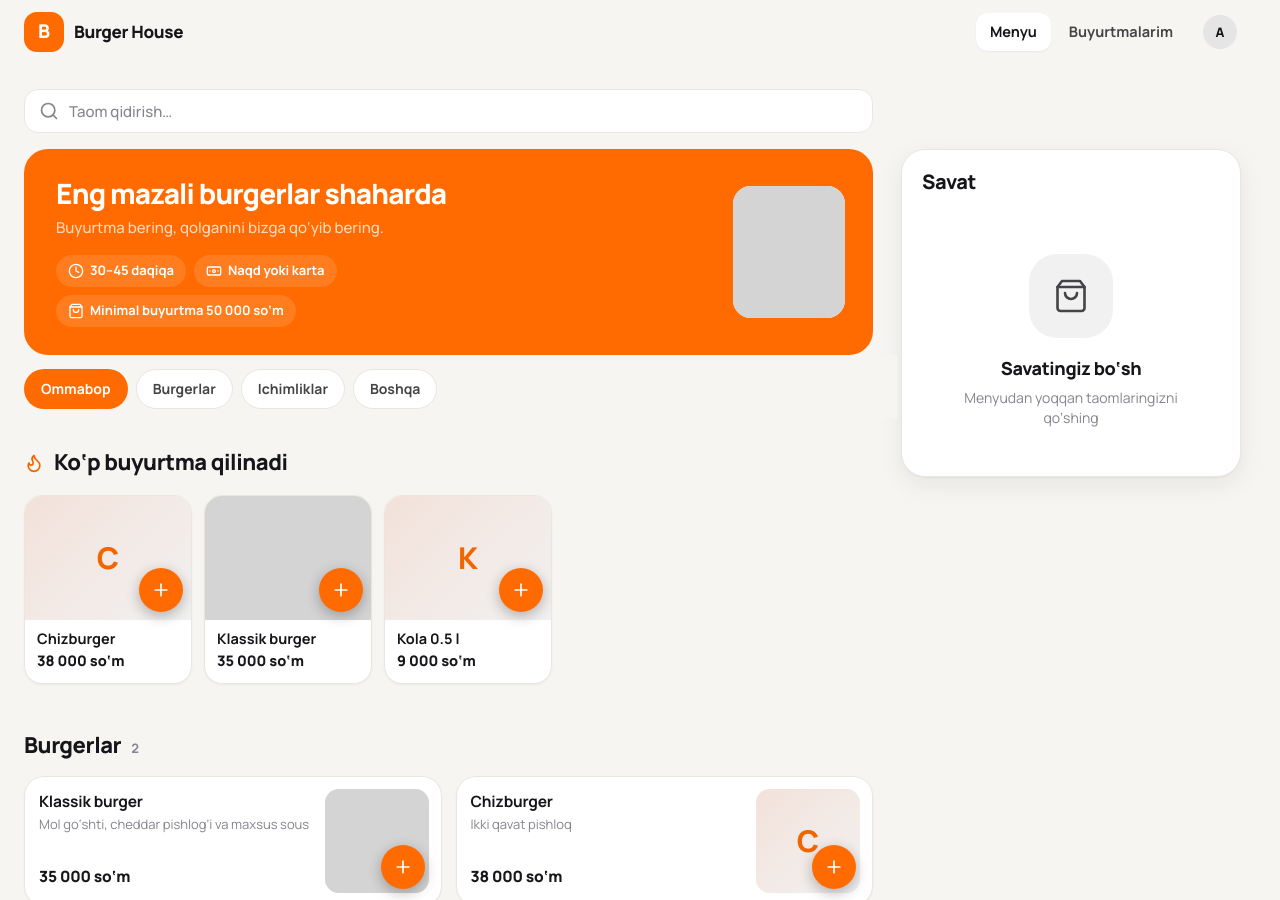
Test: Telegram Mini App › uses the MainButton for the product sheet
Click the 2nd button "Chizburger" at (512, 801), box x1=470 y1=791 x2=553 y2=811
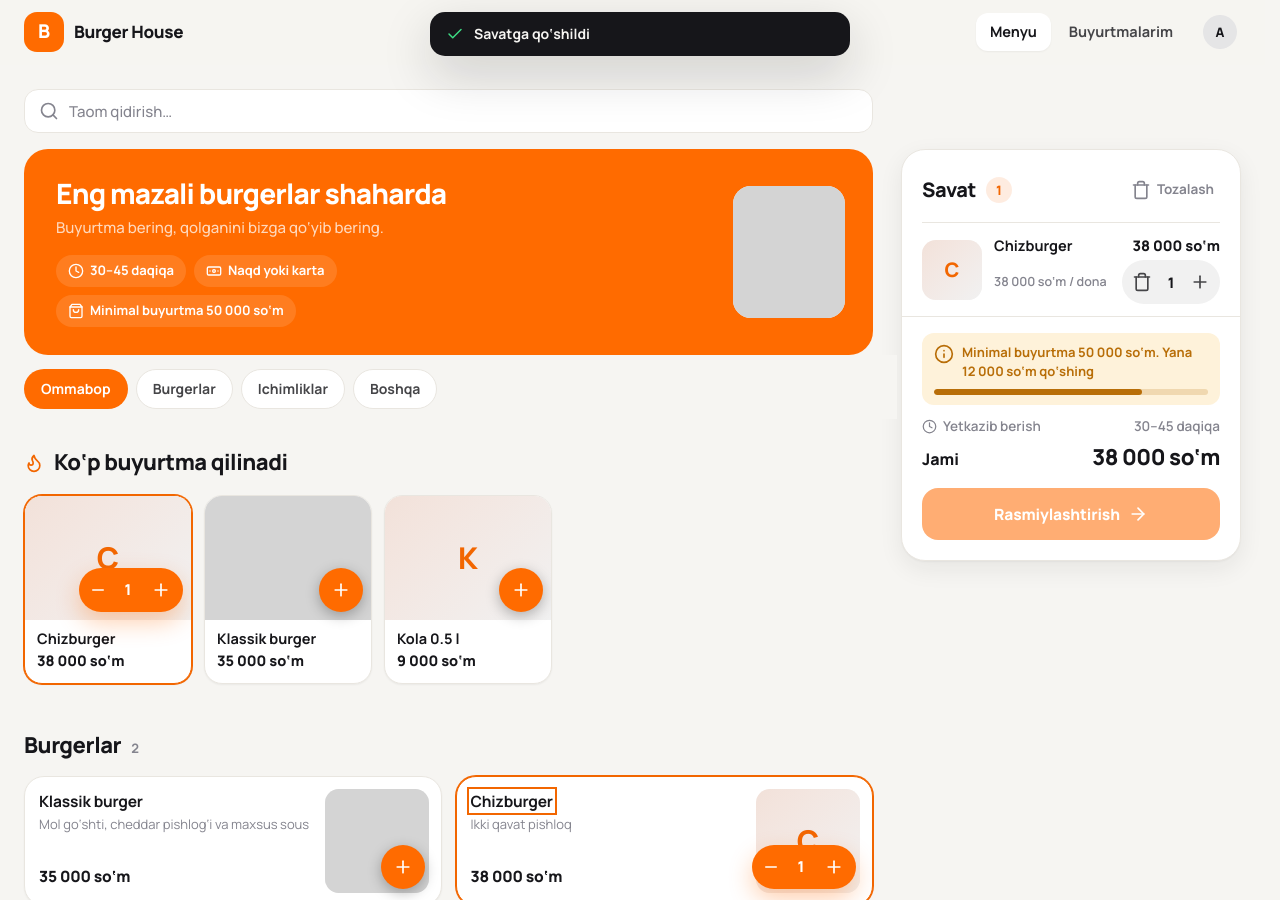
Now the element showing "1" below "Ikki qavat pishloq" is shown, box x1=798 y1=856 x2=804 y2=877
